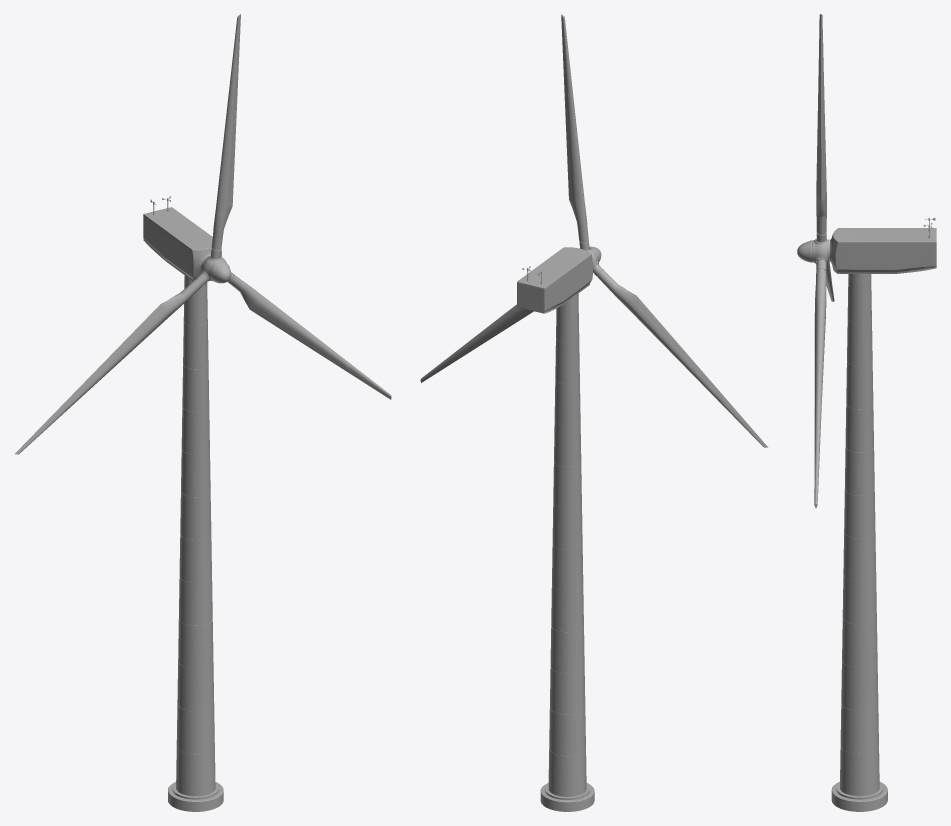
The picture shows the model from 3 angles, left to right: view 1: azimuth 30°, elevation 25°; view 2: azimuth 150°, elevation 25°; view 3: azimuth 270°, elevation 25°; orthographic projection. The views are drawn at different scales.
Parts seen in each view (by area): view 1: 柱子, 风机, 扇叶3, 扇叶1, 扇叶2, 底座; view 2: 柱子, 风机, 扇叶3, 扇叶1, 扇叶2, 底座; view 3: 柱子, 风机, 扇叶2, 扇叶1, 底座, Rotor.
Boxes of the visible parts, left/top/right/bottom form: 柱子: left=172, top=275, right=218, bottom=799; 风机: left=143, top=207, right=221, bottom=281; 扇叶3: left=14, top=272, right=208, bottom=454; 扇叶1: left=210, top=14, right=240, bottom=258; 扇叶2: left=227, top=272, right=391, bottom=399; 底座: left=168, top=782, right=223, bottom=811; 柱子: left=545, top=293, right=589, bottom=799; 风机: left=517, top=247, right=592, bottom=313; 扇叶3: left=593, top=264, right=768, bottom=447; 扇叶1: left=561, top=14, right=589, bottom=250; 扇叶2: left=420, top=304, right=533, bottom=382; 底座: left=540, top=783, right=594, bottom=811; 柱子: left=836, top=274, right=883, bottom=799; 风机: left=830, top=228, right=936, bottom=273; 扇叶2: left=814, top=259, right=826, bottom=508; 扇叶1: left=816, top=14, right=826, bottom=242; 底座: left=831, top=781, right=887, bottom=811; Rotor: left=797, top=238, right=829, bottom=263.
Bounding box in the file's own units: 0.5051 × 1.04 × 0.1647.
Materials: 2 (2 with a texture image).
